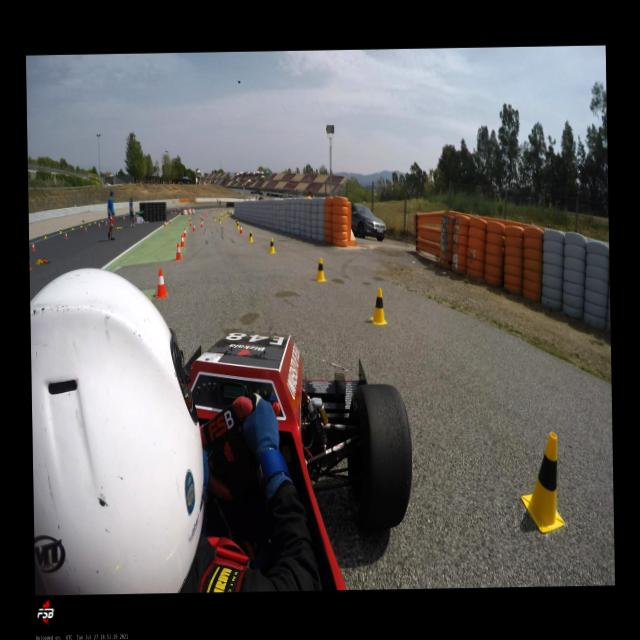orange_cone: (155, 268, 167, 298), (175, 242, 181, 260), (179, 234, 184, 247), (182, 228, 186, 238), (31, 242, 35, 252), (238, 224, 242, 233), (192, 223, 195, 231), (188, 220, 192, 226), (64, 232, 67, 239), (200, 220, 202, 228), (164, 220, 166, 227), (188, 216, 190, 222), (98, 222, 100, 228), (168, 218, 170, 224), (199, 214, 201, 219), (105, 220, 107, 224), (85, 226, 86, 232)
yellow_cone: (520, 432, 564, 533), (370, 288, 387, 324), (314, 257, 326, 281), (268, 237, 274, 253), (248, 230, 252, 242), (236, 222, 239, 228), (235, 218, 237, 225), (44, 233, 46, 239), (59, 228, 61, 234), (71, 224, 73, 230), (80, 222, 82, 228), (218, 217, 220, 223), (88, 220, 90, 225), (200, 217, 202, 222), (220, 214, 222, 219), (100, 218, 102, 222), (213, 216, 215, 220), (94, 218, 95, 224)
